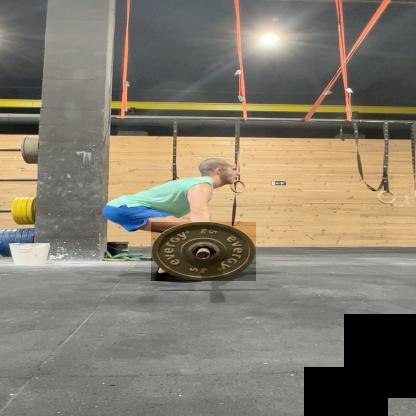barbell: (152, 223, 257, 282)
